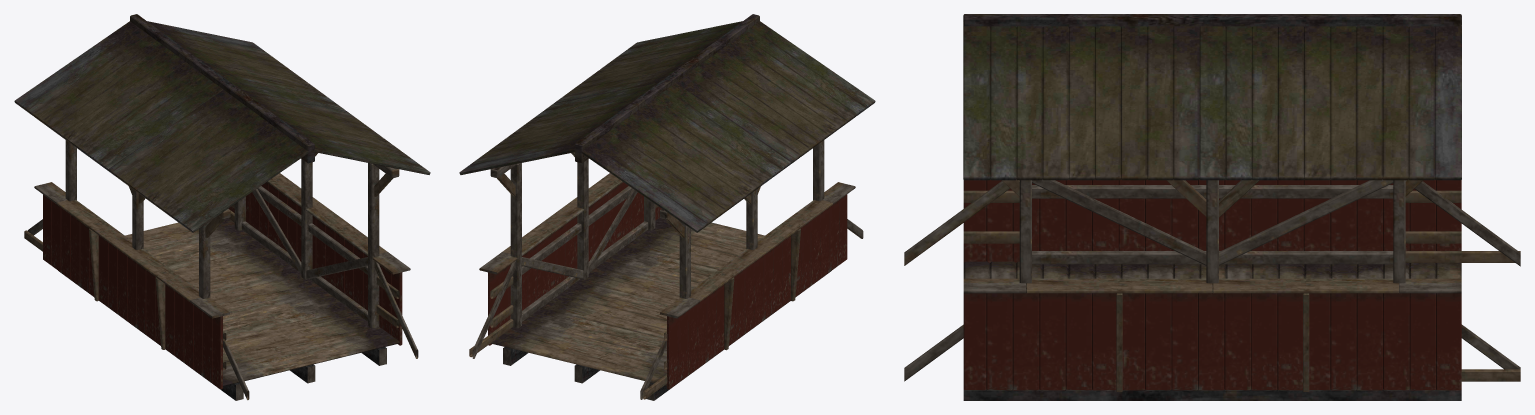
File: Bridge_01.fbx
The picture shows the model from 3 angles, left to right: view 1: azimuth 30°, elevation 25°; view 2: azimuth 150°, elevation 25°; view 3: azimuth 270°, elevation 25°; orthographic projection. The views are drawn at different scales.
Parts seen in each view (by area): view 1: Bridge_Roof:Bridge_Roof_0; view 2: Bridge_Roof:Bridge_Roof_0; view 3: Bridge_Roof:Bridge_Roof_0.
Boxes of the visible parts, bbox=[...] form: Bridge_Roof:Bridge_Roof_0: bbox=[14, 14, 430, 400]; Bridge_Roof:Bridge_Roof_0: bbox=[459, 14, 875, 400]; Bridge_Roof:Bridge_Roof_0: bbox=[904, 14, 1520, 400].
Size of the model in its own units: 31.01 by 29.52 by 49.49.
1 material, 1 textured.
